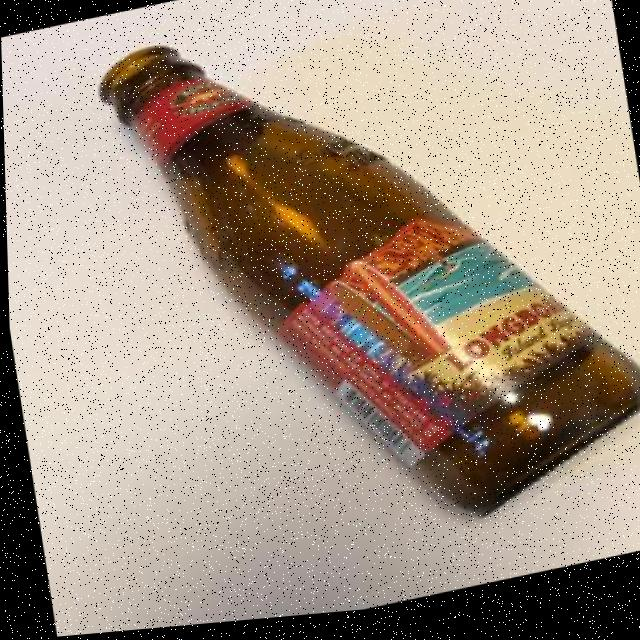glass: (86, 0, 640, 604)
